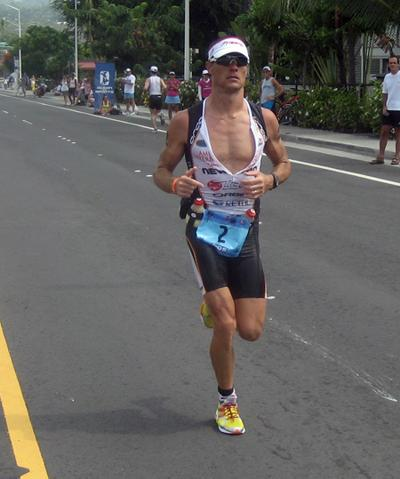person: (148, 36, 293, 435)
